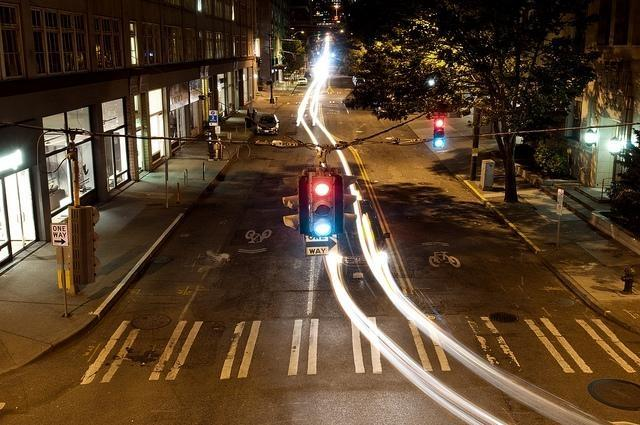car: (322, 230, 389, 280), (257, 113, 279, 134), (298, 78, 307, 86), (308, 73, 316, 80)
